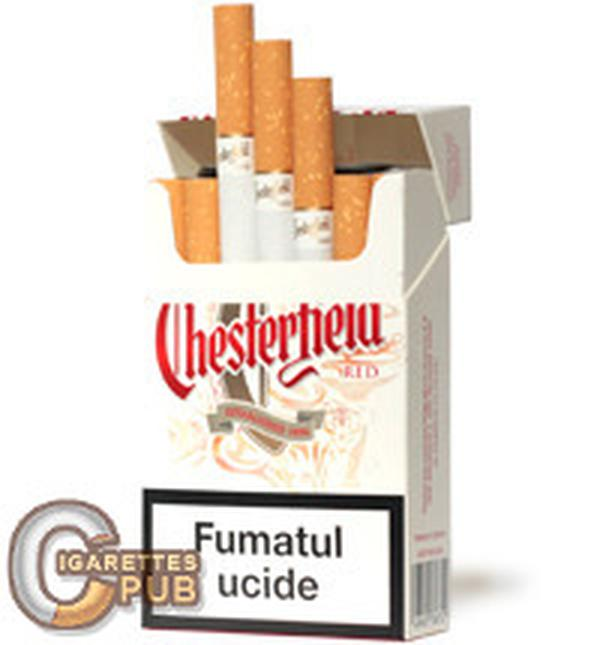chesterfield_red: (145, 186, 404, 630)
